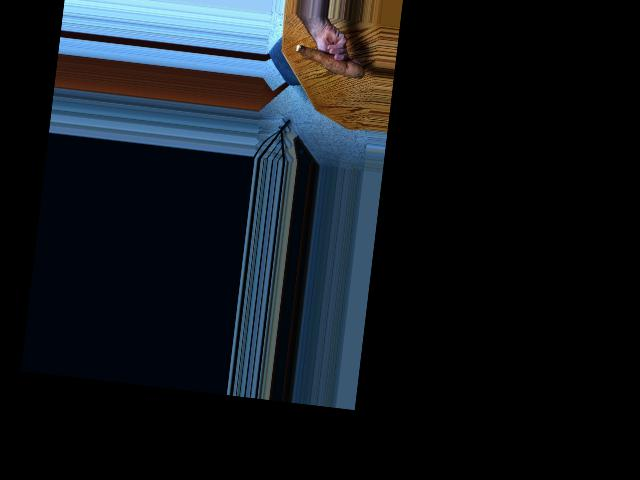sweet_potato: (290, 43, 364, 83)
